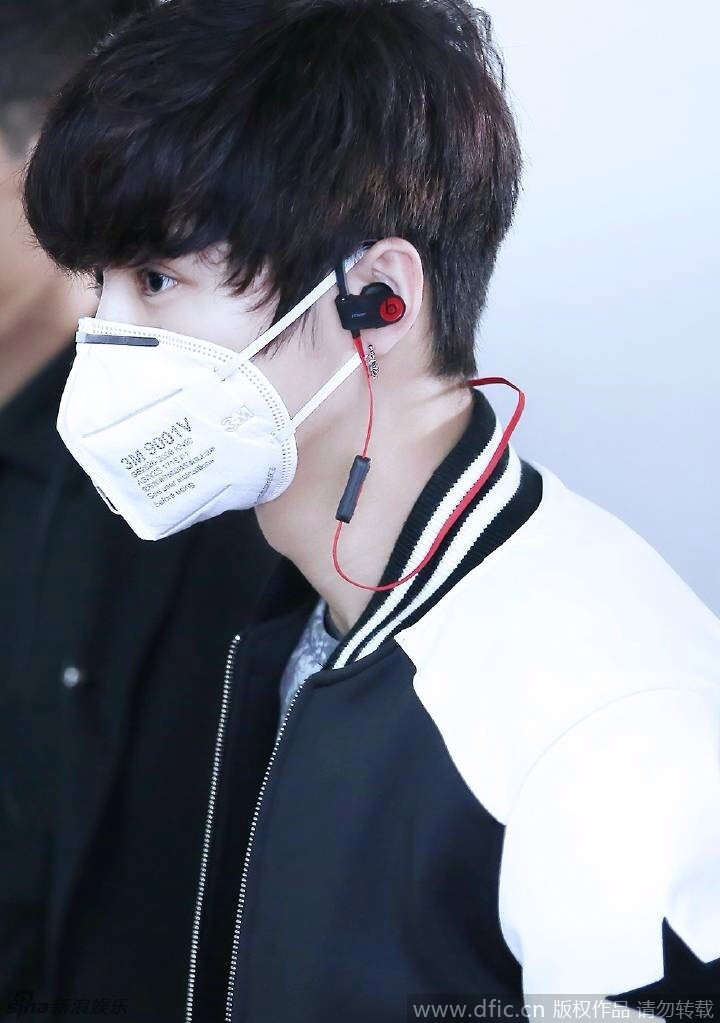mask: (49, 300, 342, 537)
